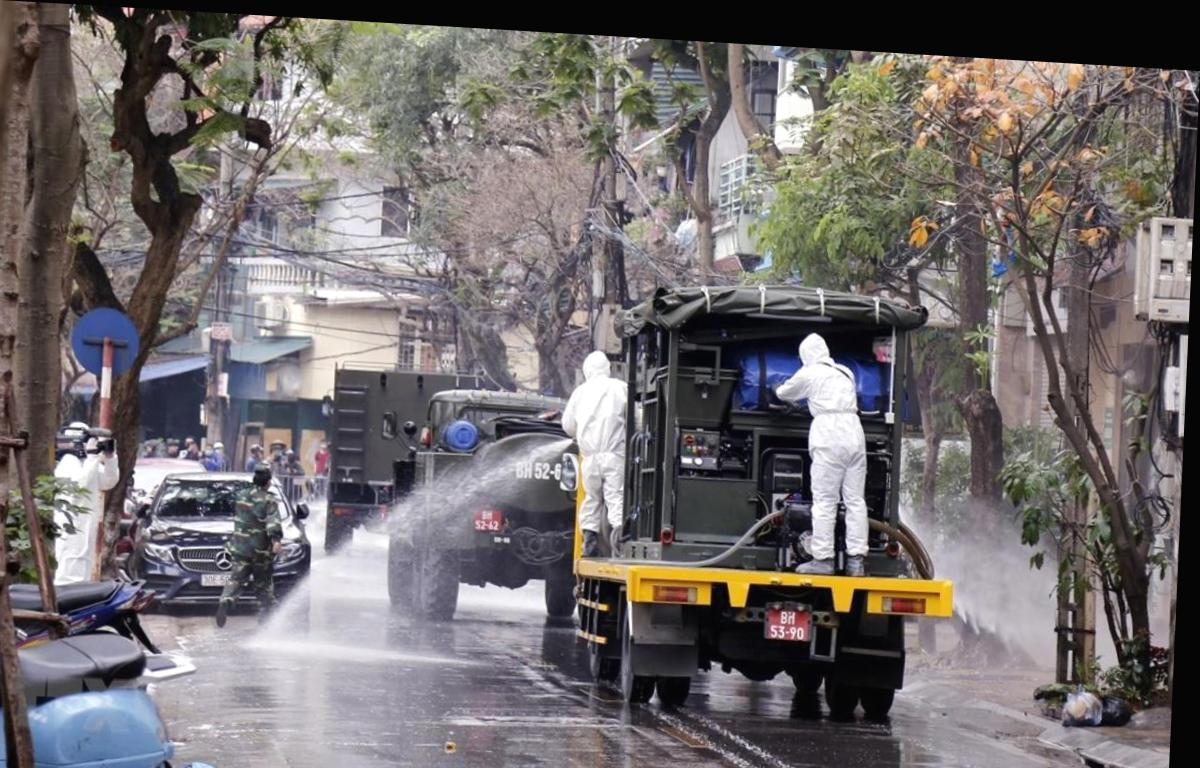License_Plate: (765, 607, 811, 641), (471, 506, 501, 533), (203, 571, 238, 589)
